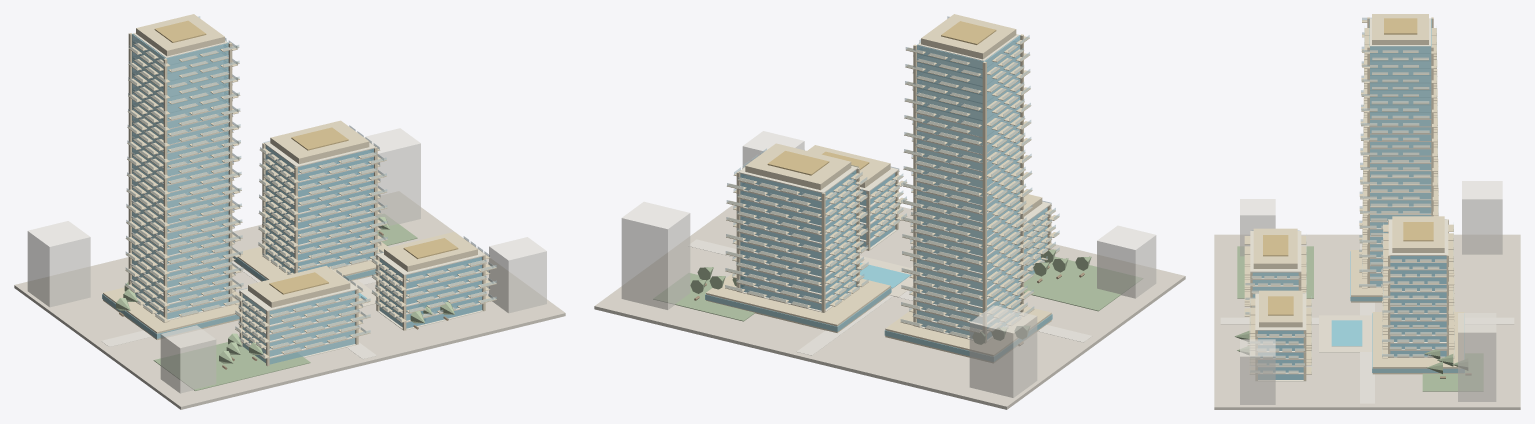
File: utopia-rich-v1.glb
The picture shows the model from 3 angles, left to right: view 1: azimuth 30°, elevation 25°; view 2: azimuth 150°, elevation 25°; view 3: azimuth 270°, elevation 25°; orthographic projection. The views are drawn at different scales.
Parts seen in each view (by area): view 1: b0f1W0, b0s0, site, b0glass, b0g1W0, ctx0, b1glass, green1, b0gold, tree0, pathx; view 2: b0f1W0, site, b0s0, b0glass, ctx0, b0g1W0, b1glass, green1, b0gold, tree0, pathx, pool (+1 smaller); view 3: site, b0f1W0, b0s0, ctx0, b0glass, b0g1W0, b1glass, green1, b0gold, pathx, courtdeck, pool (+1 smaller).
Boxes of the visible parts, x1=… form: b0f1W0: x1=103, y1=14, x2=496, y2=366; b0s0: x1=130, y1=32, x2=485, y2=359; site: x1=14, y1=191, x2=565, y2=409; b0glass: x1=102, y1=33, x2=376, y2=364; b0g1W0: x1=125, y1=16, x2=496, y2=357; ctx0: x1=27, y1=128, x2=546, y2=393; b1glass: x1=265, y1=145, x2=482, y2=328; green1: x1=153, y1=214, x2=417, y2=390; b0gold: x1=154, y1=20, x2=458, y2=294; tree0: x1=116, y1=217, x2=454, y2=363; pathx: x1=101, y1=260, x2=381, y2=359; b0f1W0: x1=706, y1=14, x2=1059, y2=363; site: x1=594, y1=200, x2=1185, y2=409; b0s0: x1=738, y1=34, x2=1051, y2=341; b0glass: x1=705, y1=35, x2=1052, y2=361; ctx0: x1=621, y1=131, x2=1156, y2=397; b0g1W0: x1=725, y1=16, x2=1059, y2=337; b1glass: x1=740, y1=170, x2=895, y2=310; green1: x1=653, y1=256, x2=1142, y2=321; b0gold: x1=767, y1=21, x2=996, y2=175; tree0: x1=690, y1=203, x2=1091, y2=344; pathx: x1=688, y1=239, x2=1091, y2=355; pool: x1=860, y1=262, x2=910, y2=288; site: x1=1214, y1=234, x2=1520, y2=409; b0f1W0: x1=1244, y1=14, x2=1464, y2=380; b0s0: x1=1250, y1=18, x2=1448, y2=381; ctx0: x1=1240, y1=181, x2=1502, y2=404; b0glass: x1=1252, y1=18, x2=1464, y2=372; b0g1W0: x1=1245, y1=17, x2=1454, y2=373; b1glass: x1=1258, y1=256, x2=1446, y2=379; green1: x1=1237, y1=246, x2=1483, y2=391; b0gold: x1=1263, y1=18, x2=1433, y2=315; pathx: x1=1220, y1=243, x2=1514, y2=403; courtdeck: x1=1319, y1=315, x2=1371, y2=352; pool: x1=1331, y1=320, x2=1362, y2=346.
Bounding box in the file's own units: 160 × 111 × 120.
